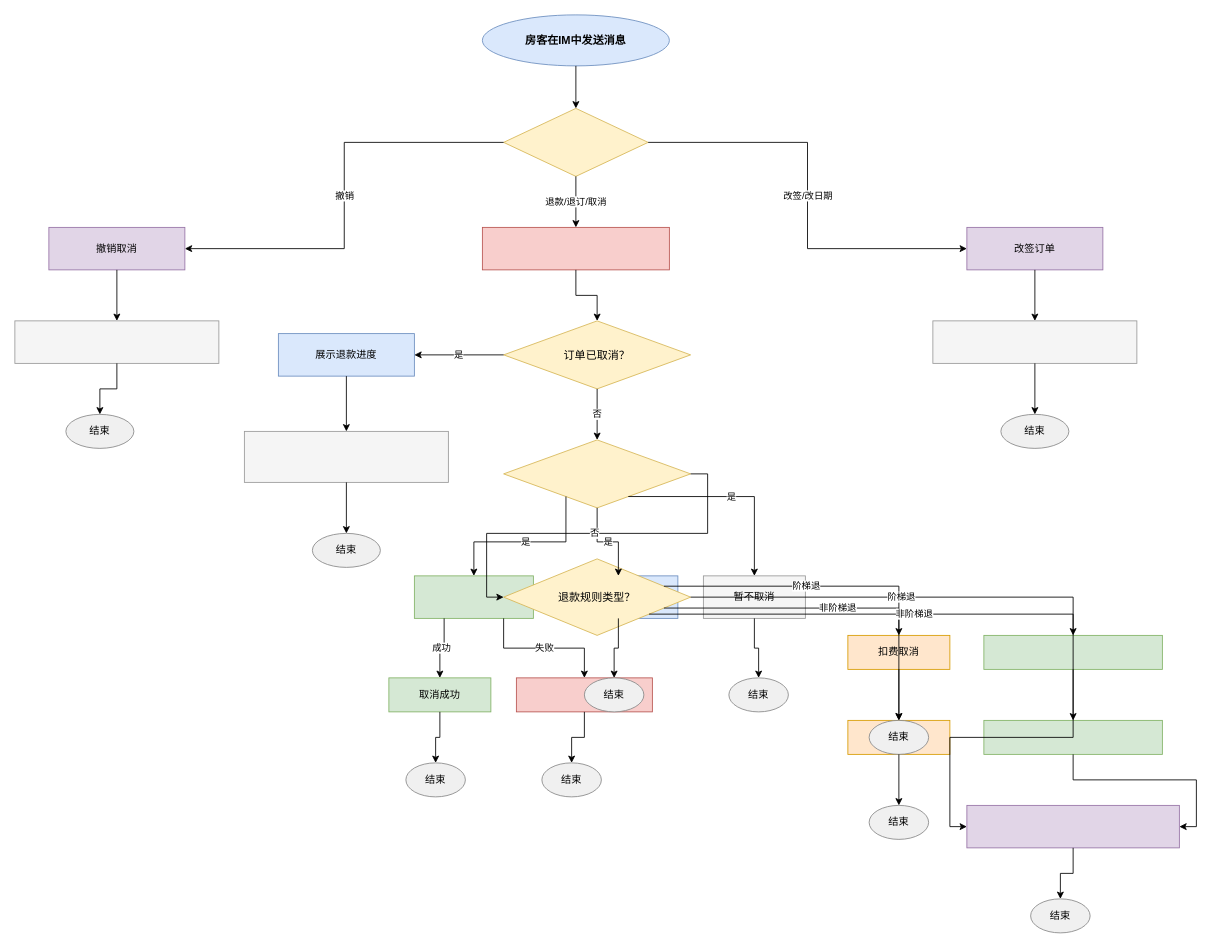
Some shapes in this 1218 by 948 pixel diagram are drawn without their labels. The box of each missing label's shape, as (x1, y1, x2, y2) in pixels:
协商退流程 房东同意/拒绝 → 通知房客: (966, 805, 1179, 848)
取消失败 → 引导手动操作: (516, 677, 652, 712)
可免费取消？: (503, 439, 691, 508)
展示退款状态文案 处理中/退款成功/退款失败 （文案差异，非流程分支）: (244, 431, 448, 482)
意图识别: (503, 108, 648, 176)
房客主动发起协商退 🆕: (983, 720, 1162, 754)
确认取消订单: (414, 575, 533, 618)
话术兜底：已取消不可撤销 如需入住请重新预定: (14, 320, 219, 363)
话术兜底：暂不支持改签 可取消后重新预定: (932, 320, 1137, 363)
退款 / 退订 / 取消: (482, 227, 669, 270)
邀请房东发起协商退 🆕: (983, 635, 1162, 669)
